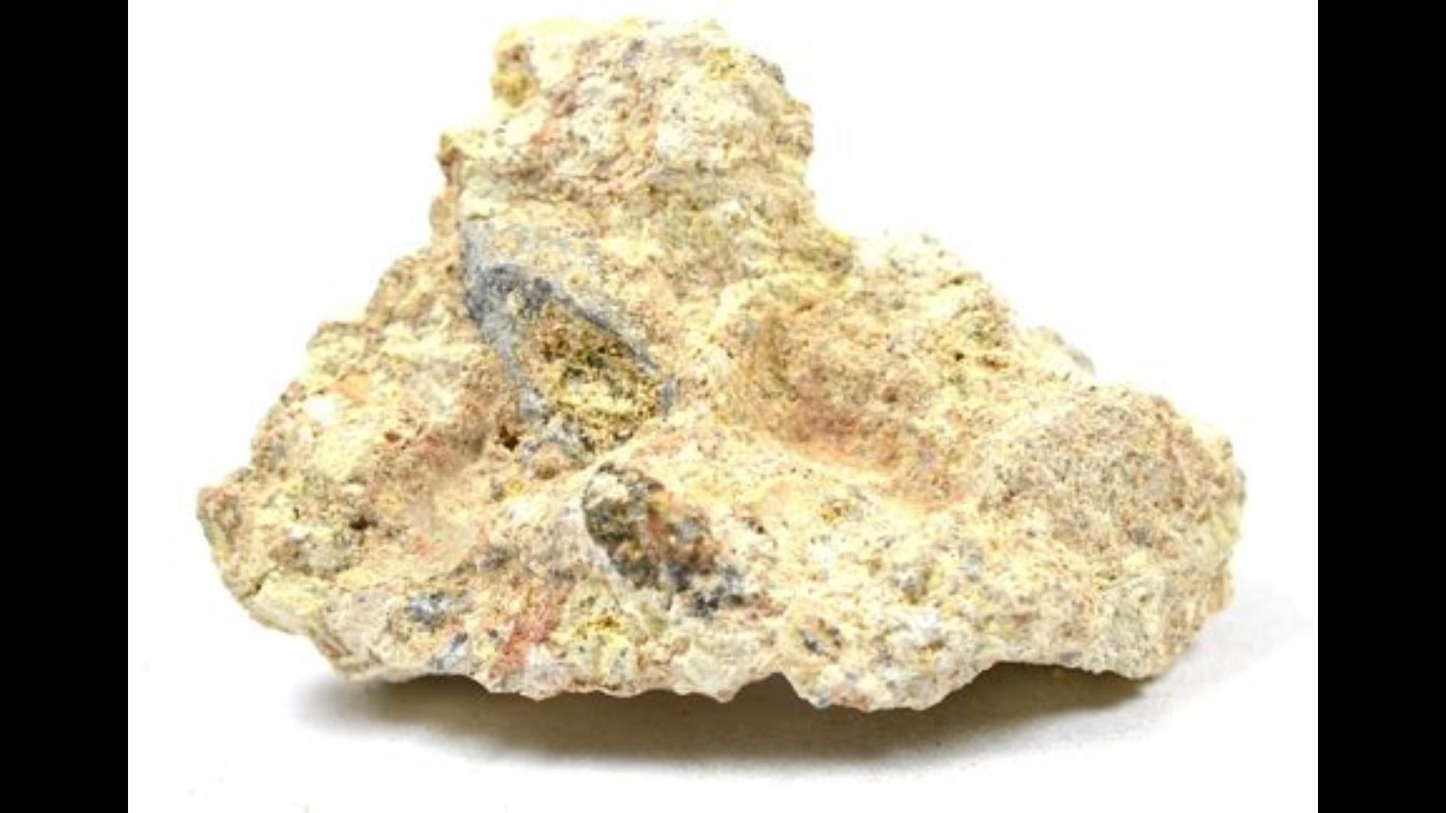rock: (198, 28, 1240, 705)
